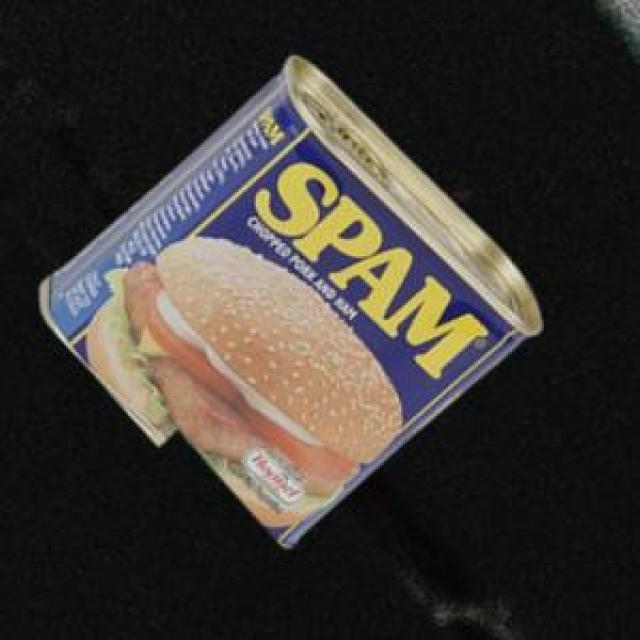Can: (37, 54, 539, 543)
